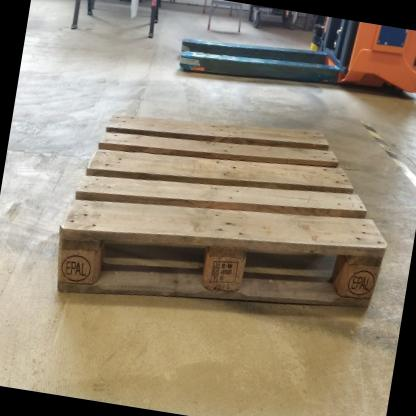BoxFace: (52, 108, 392, 318)
